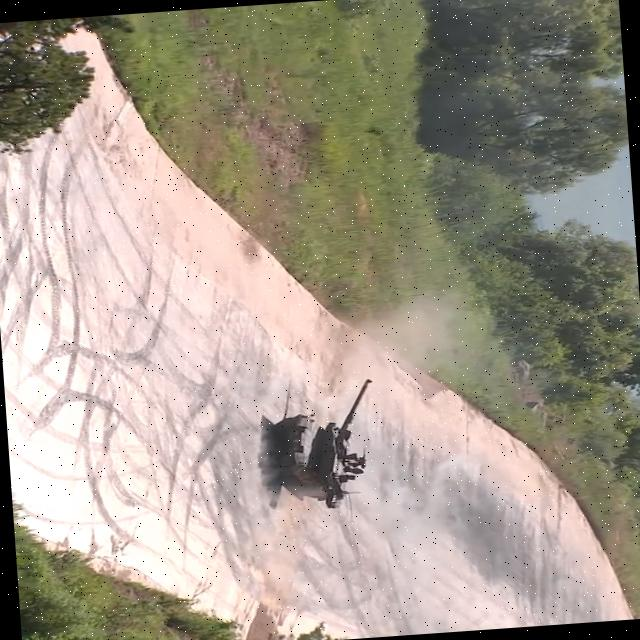korea tank: (265, 376, 382, 510)
